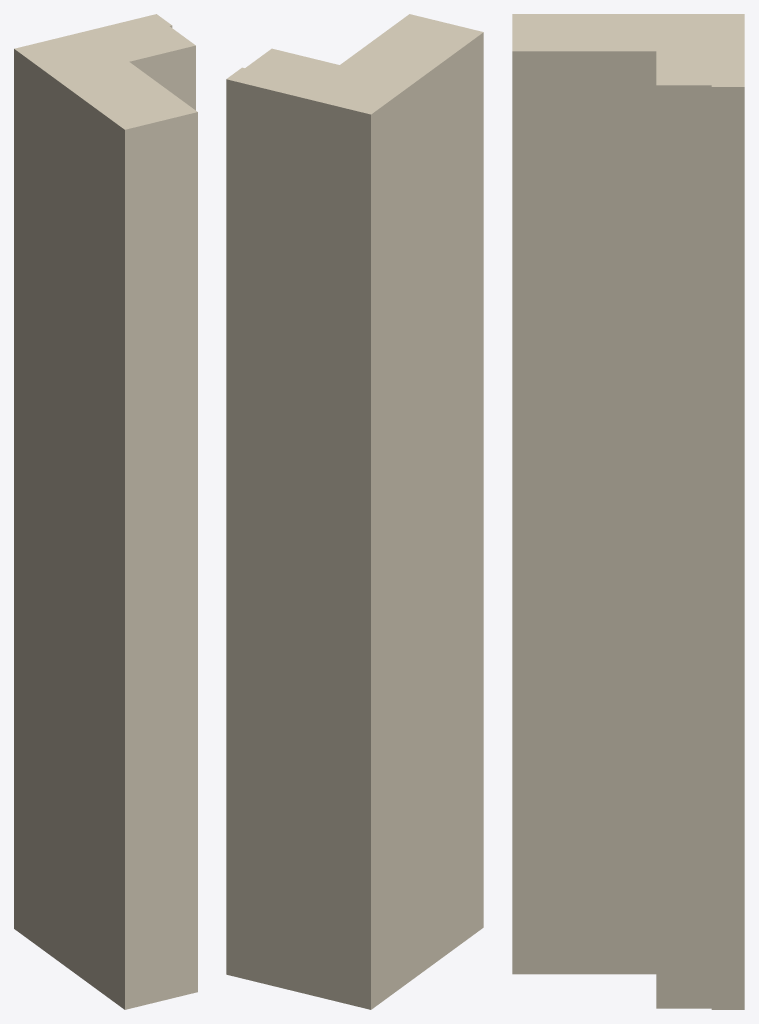
The picture shows the model from 3 angles, left to right: view 1: azimuth 30°, elevation 25°; view 2: azimuth 150°, elevation 25°; view 3: azimuth 270°, elevation 25°; orthographic projection. The views are drawn at different scales.
Parts seen in each view (by area): view 1: B-FF-WALL-005; view 2: B-FF-WALL-005; view 3: B-FF-WALL-005.
Boxes of the visible parts, <box> form: B-FF-WALL-005: <box>14,14,197,1009</box>; B-FF-WALL-005: <box>226,14,483,1009</box>; B-FF-WALL-005: <box>512,14,744,1009</box>.
Bounding box in the file's own units: 0.41 × 2.42 × 0.552.
